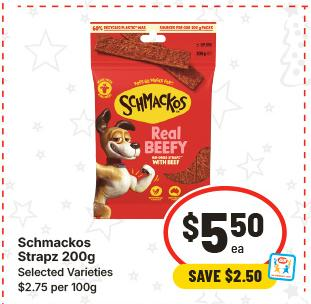description_block: (12, 227, 109, 264)
price_main: (159, 177, 289, 263)
product_image_block: (79, 15, 222, 227)
promo_text_block: (167, 262, 279, 293)
unit_price_block: (11, 279, 109, 297)
